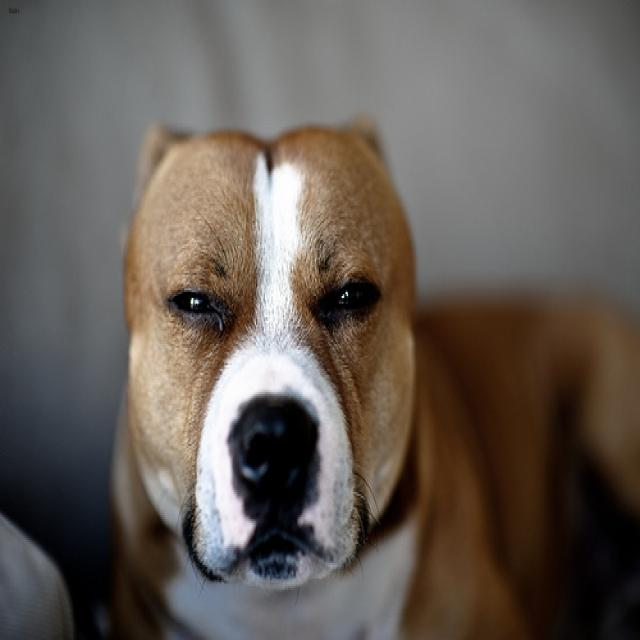dog-staffordshire_bull_terrier: (100, 110, 637, 636)
